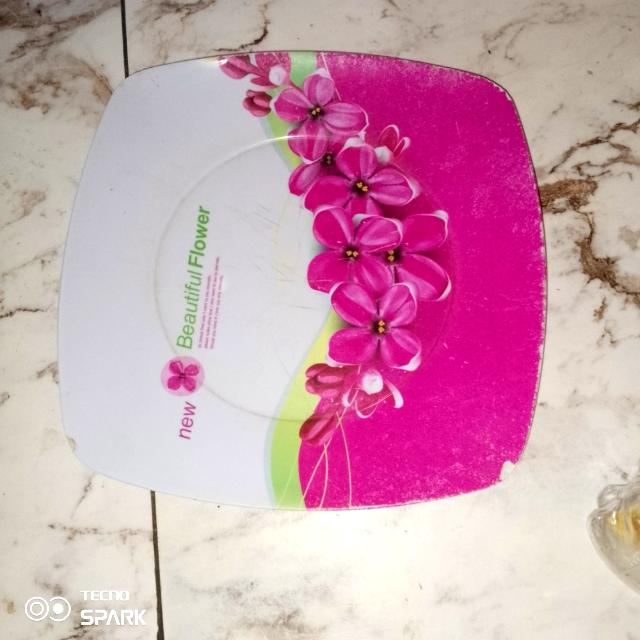Plate: (59, 53, 545, 508)
